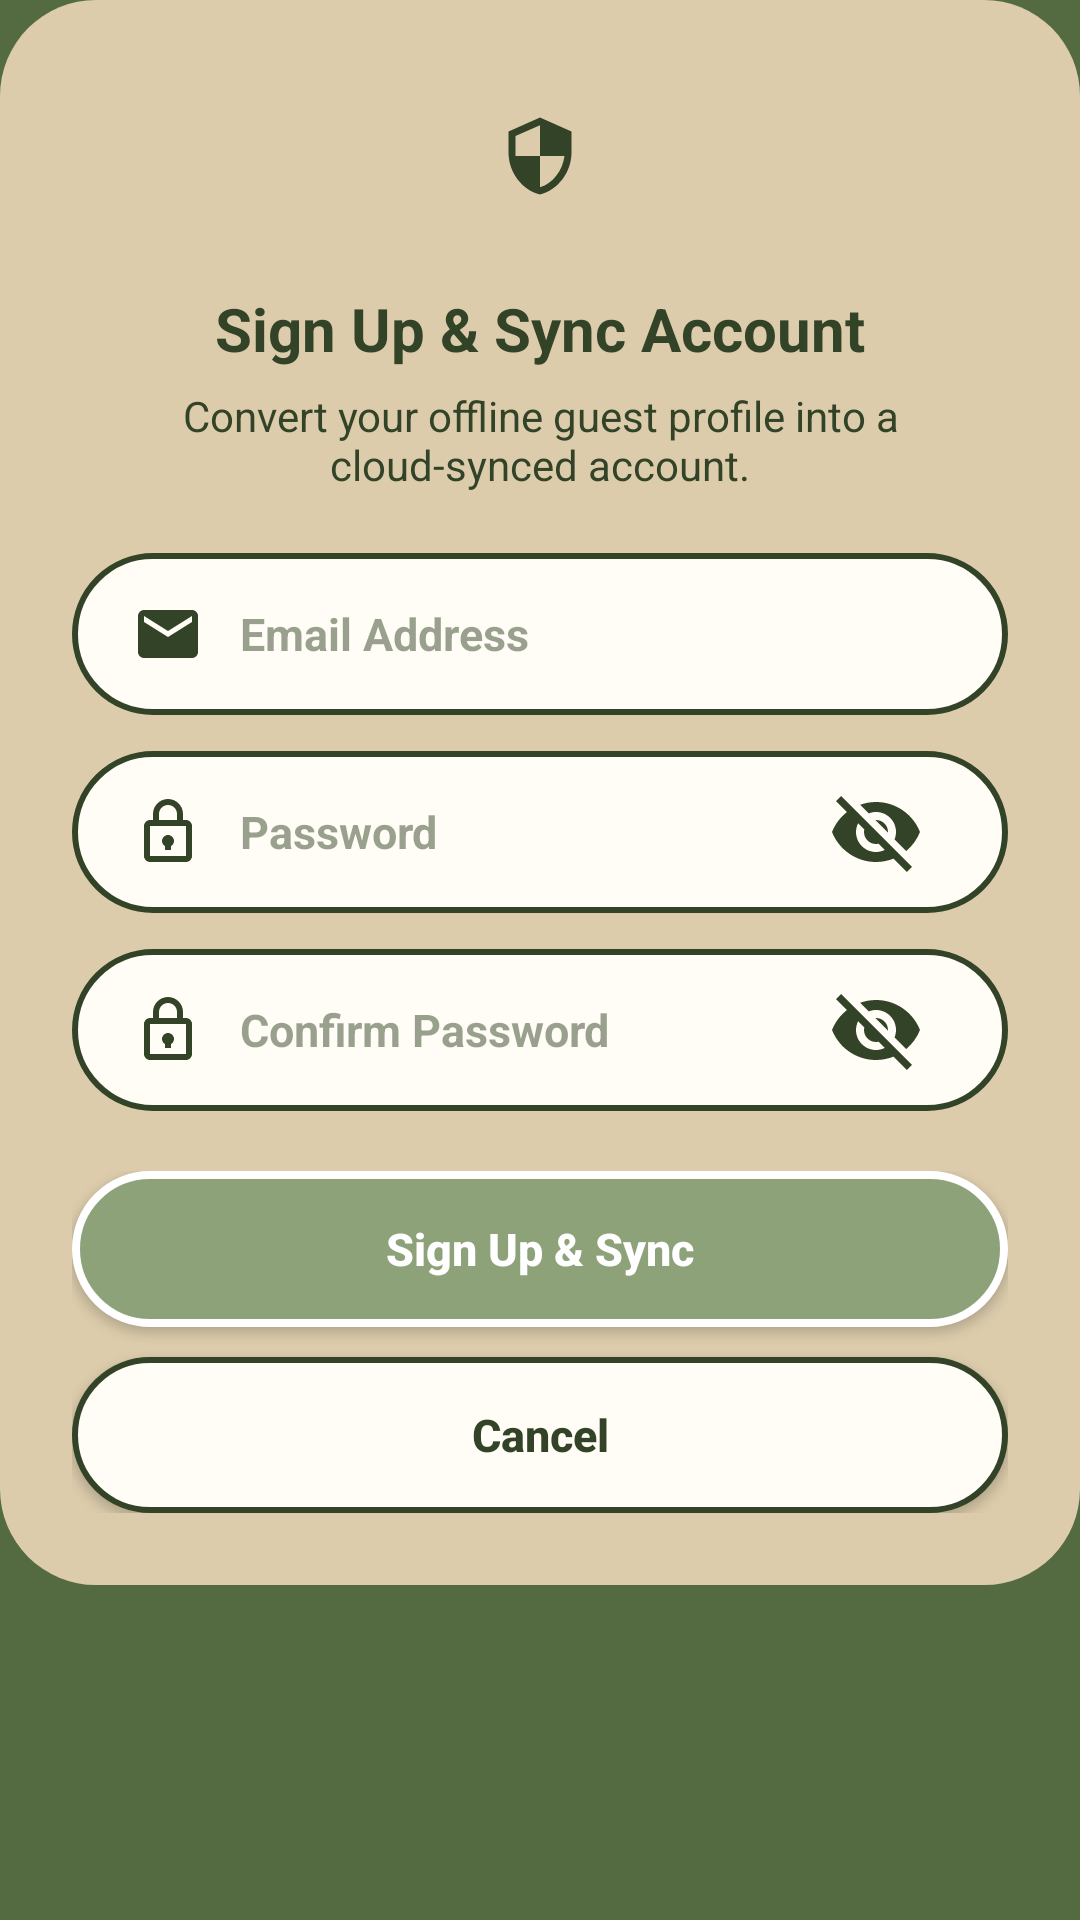

Icons on this 1080 × 1920 Android screen, each with its box as (x1, y1, x2, y2):
Lock Icon: (144, 799, 192, 862), (144, 997, 192, 1060)
